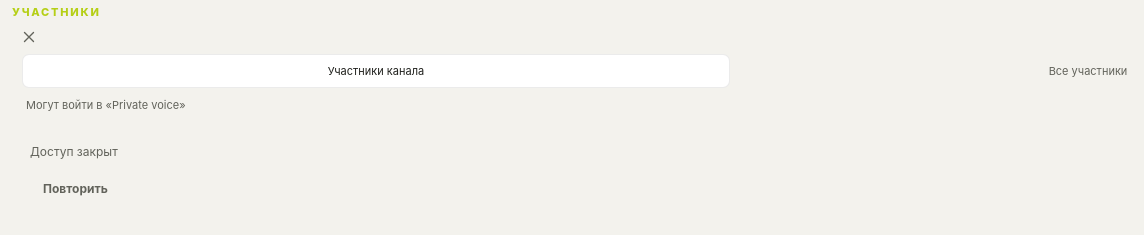
Scenario: channel and server member lists › never substitutes the whole server on a denied roster and allows retry
Expected: the message shows "Доступ закрыт", [30,144,118,159]
Click the button "Повторить" at (75, 188), box [30,171,121,205]
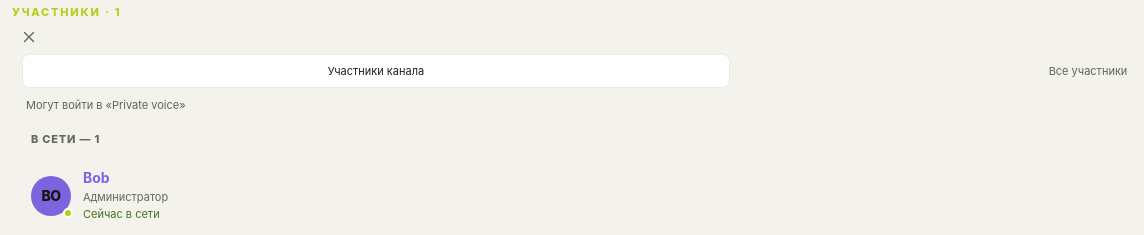
Now the text "Bob" is shown, box [83,169,110,186]
